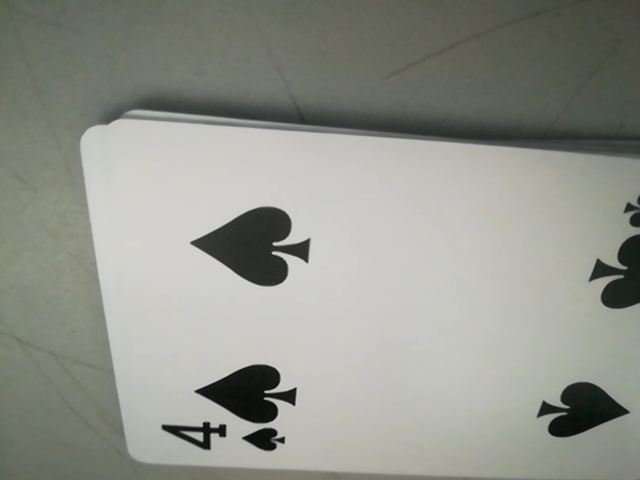ht 4: (146, 415, 300, 461)
